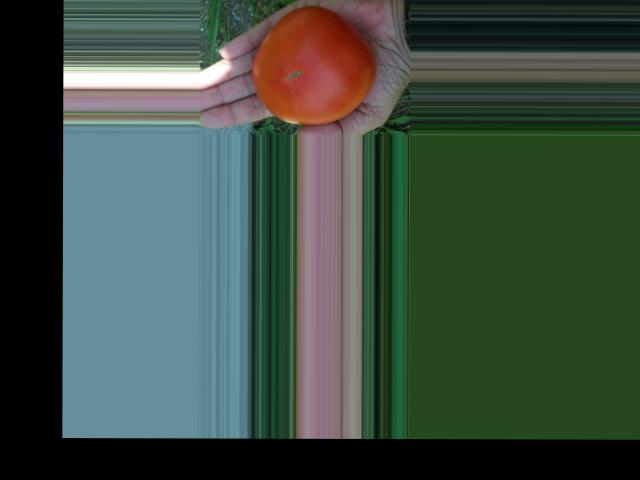tomato: (252, 5, 374, 124)
